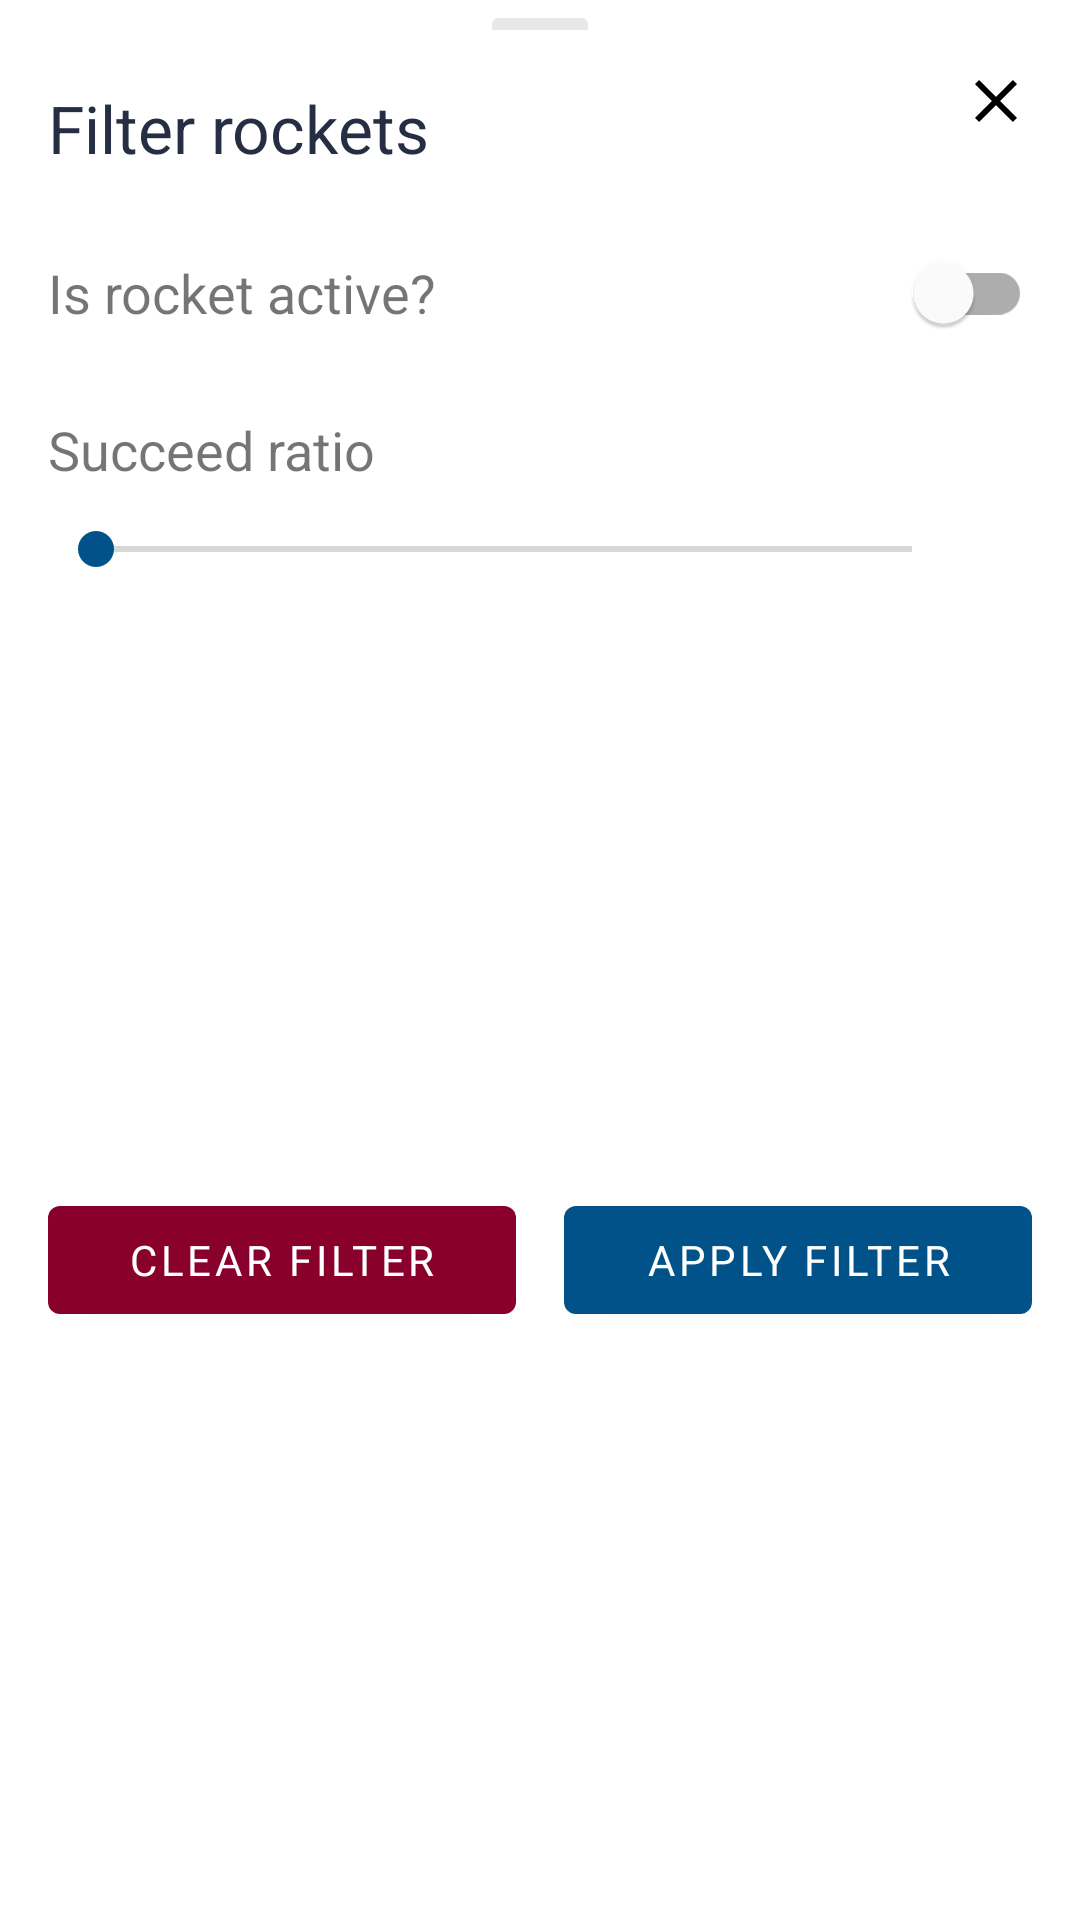

Icon click points for this 1080x1920 phone screenshot, format (x=x, y=y):
close: (x=996, y=101)
